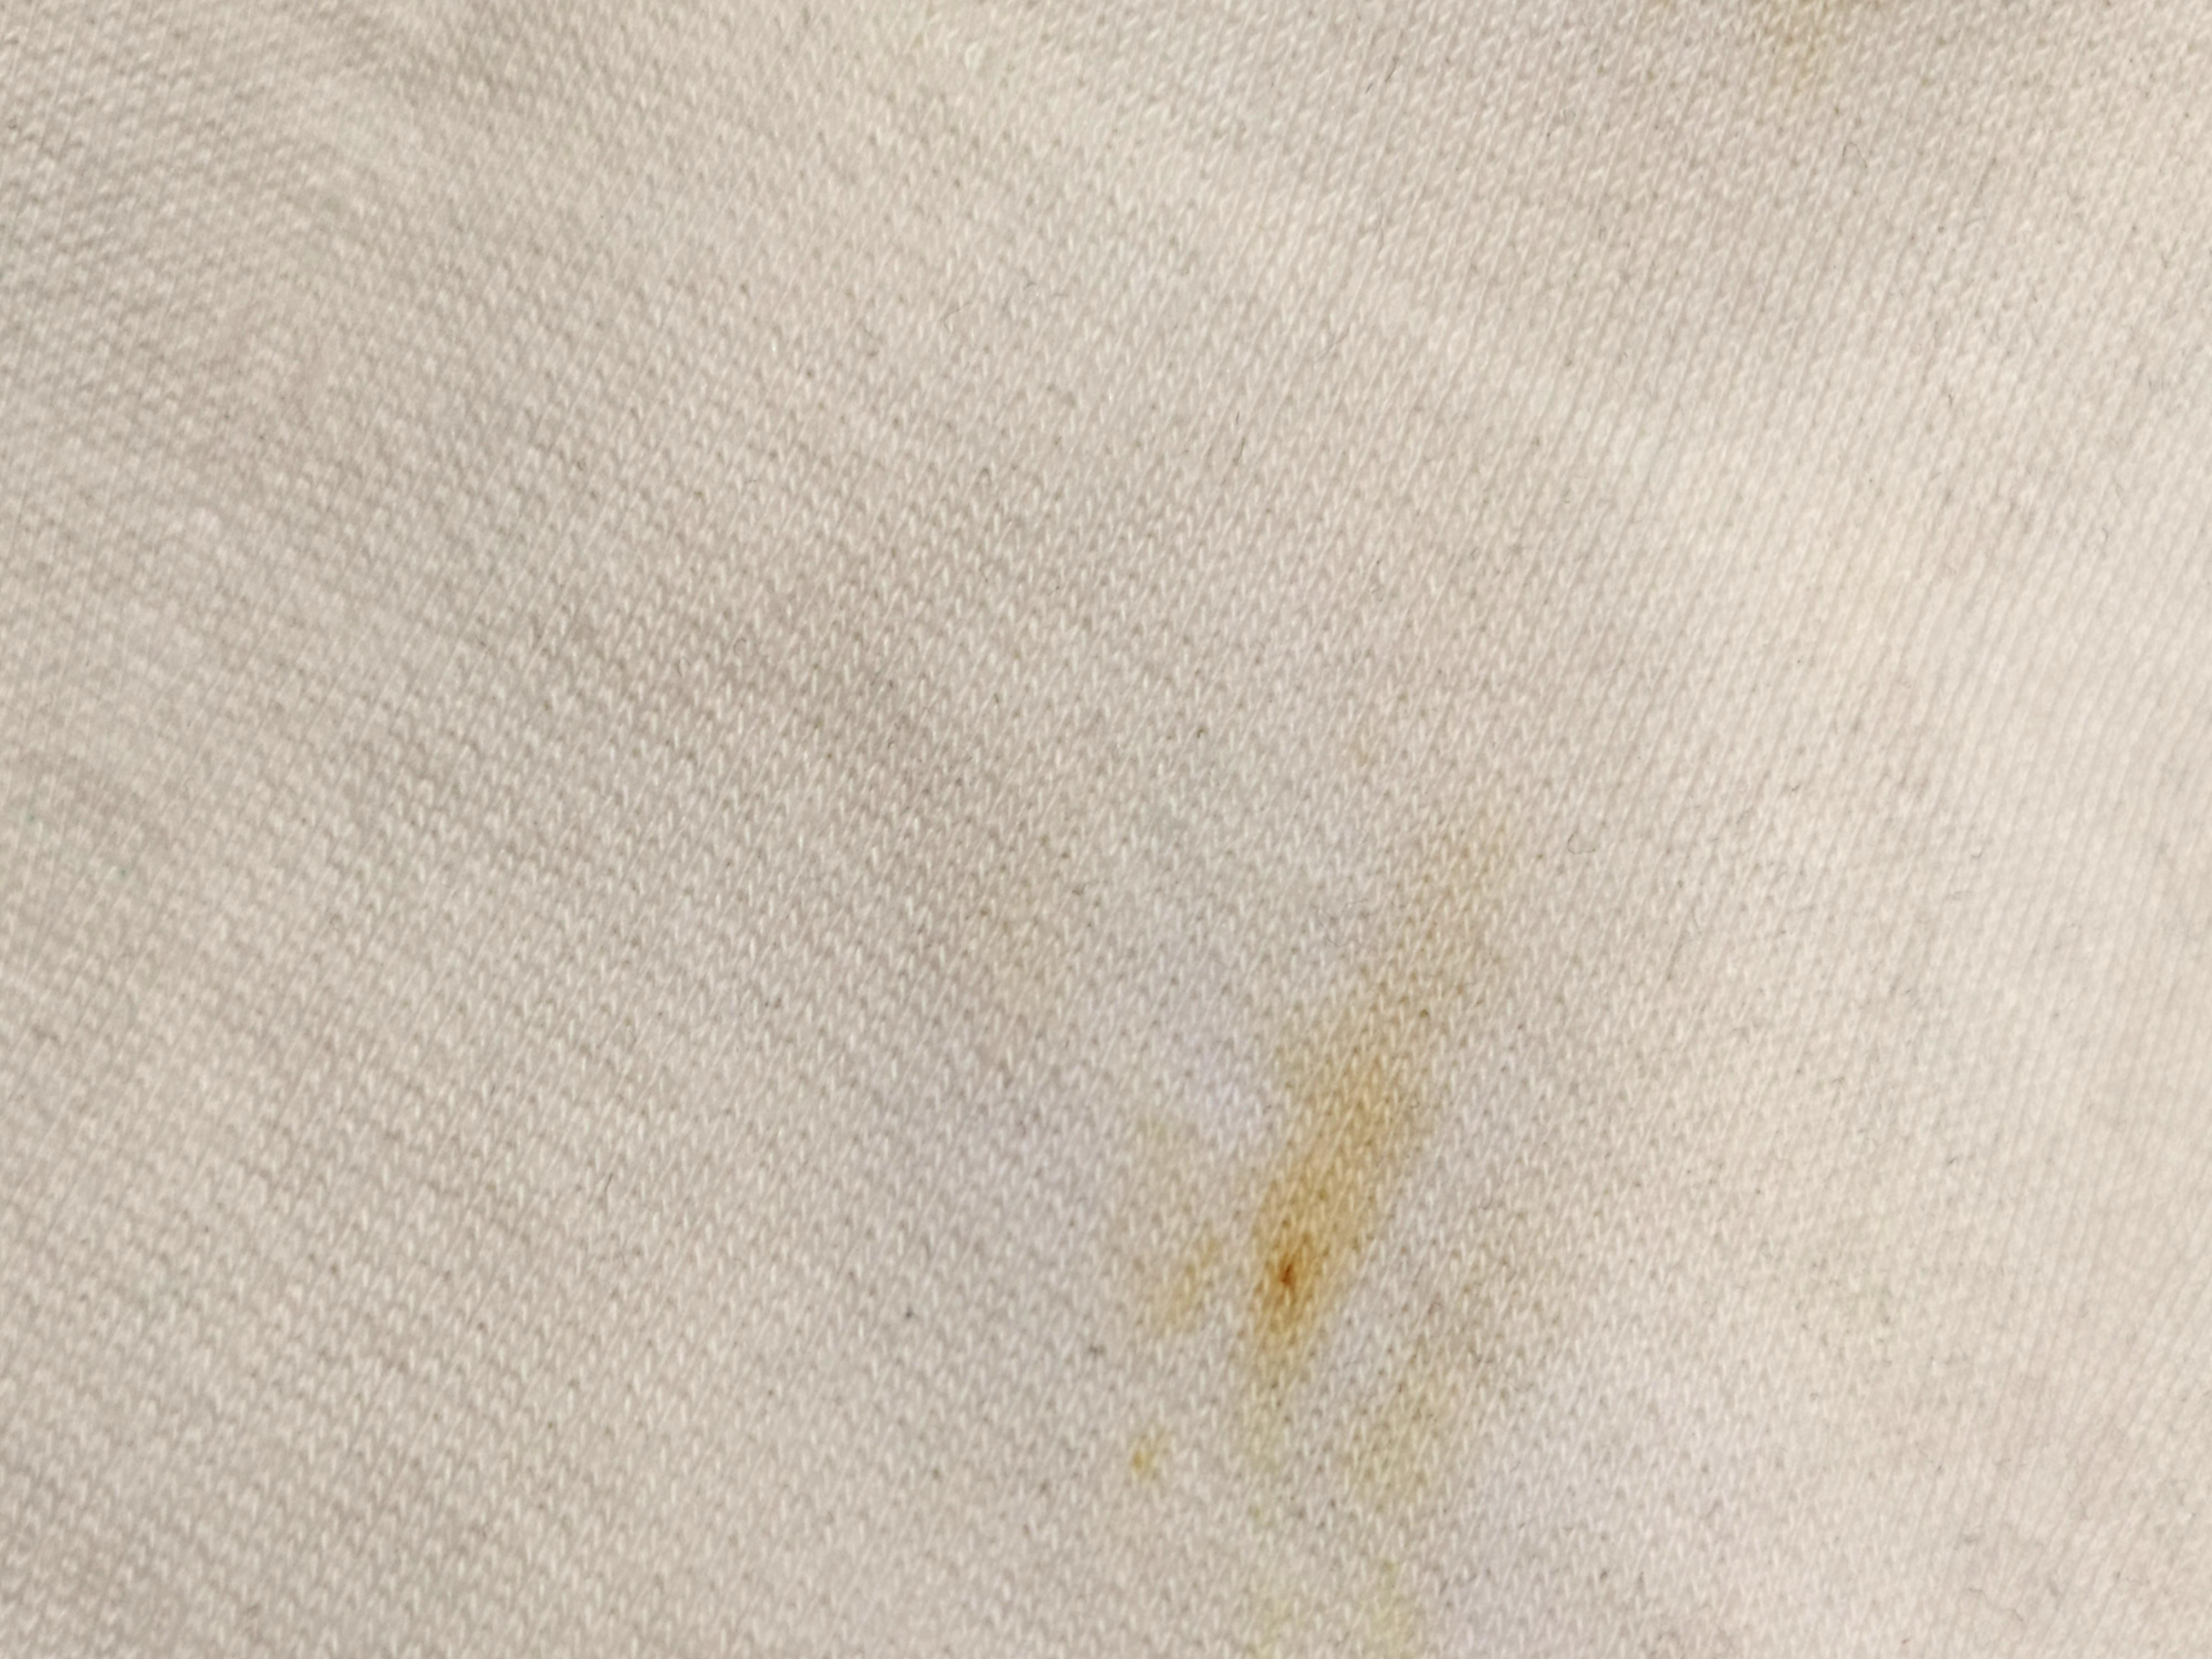stain: (1195, 1033, 1428, 1394)
